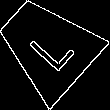L_NW: (18, 18, 75, 74)
